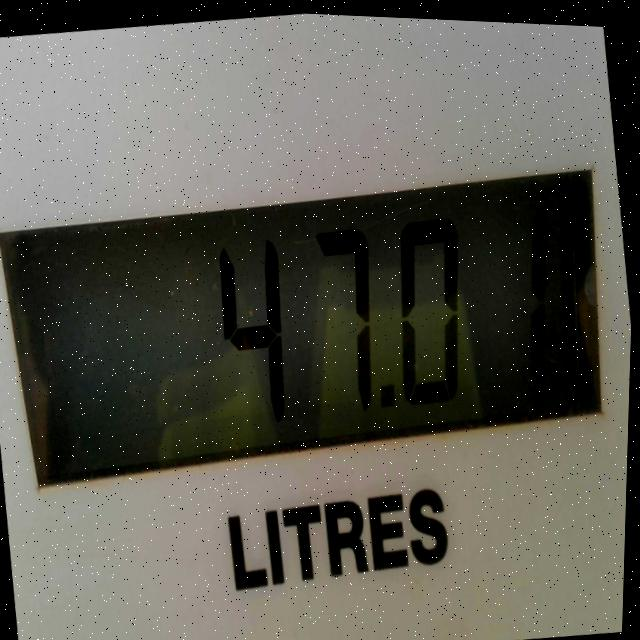.: (372, 368, 405, 416)
0: (381, 207, 492, 406)
1: (489, 195, 573, 394)
4: (200, 220, 317, 439)
7: (293, 210, 394, 434)
